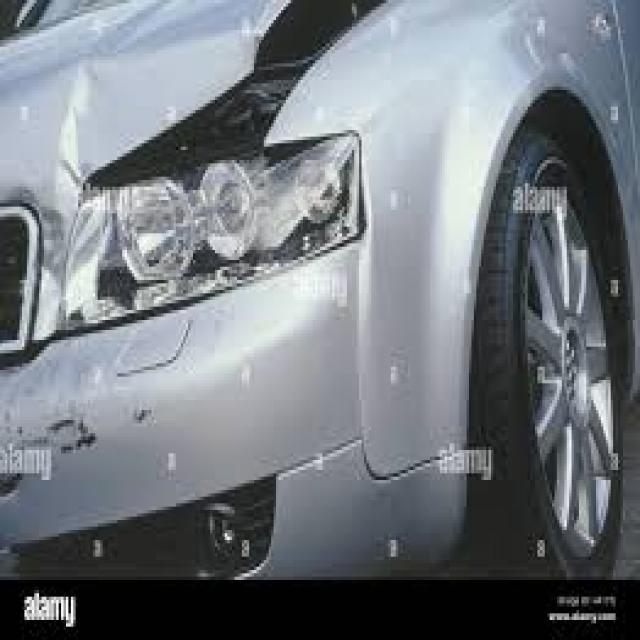damaged-head-light: (62, 136, 366, 304)
